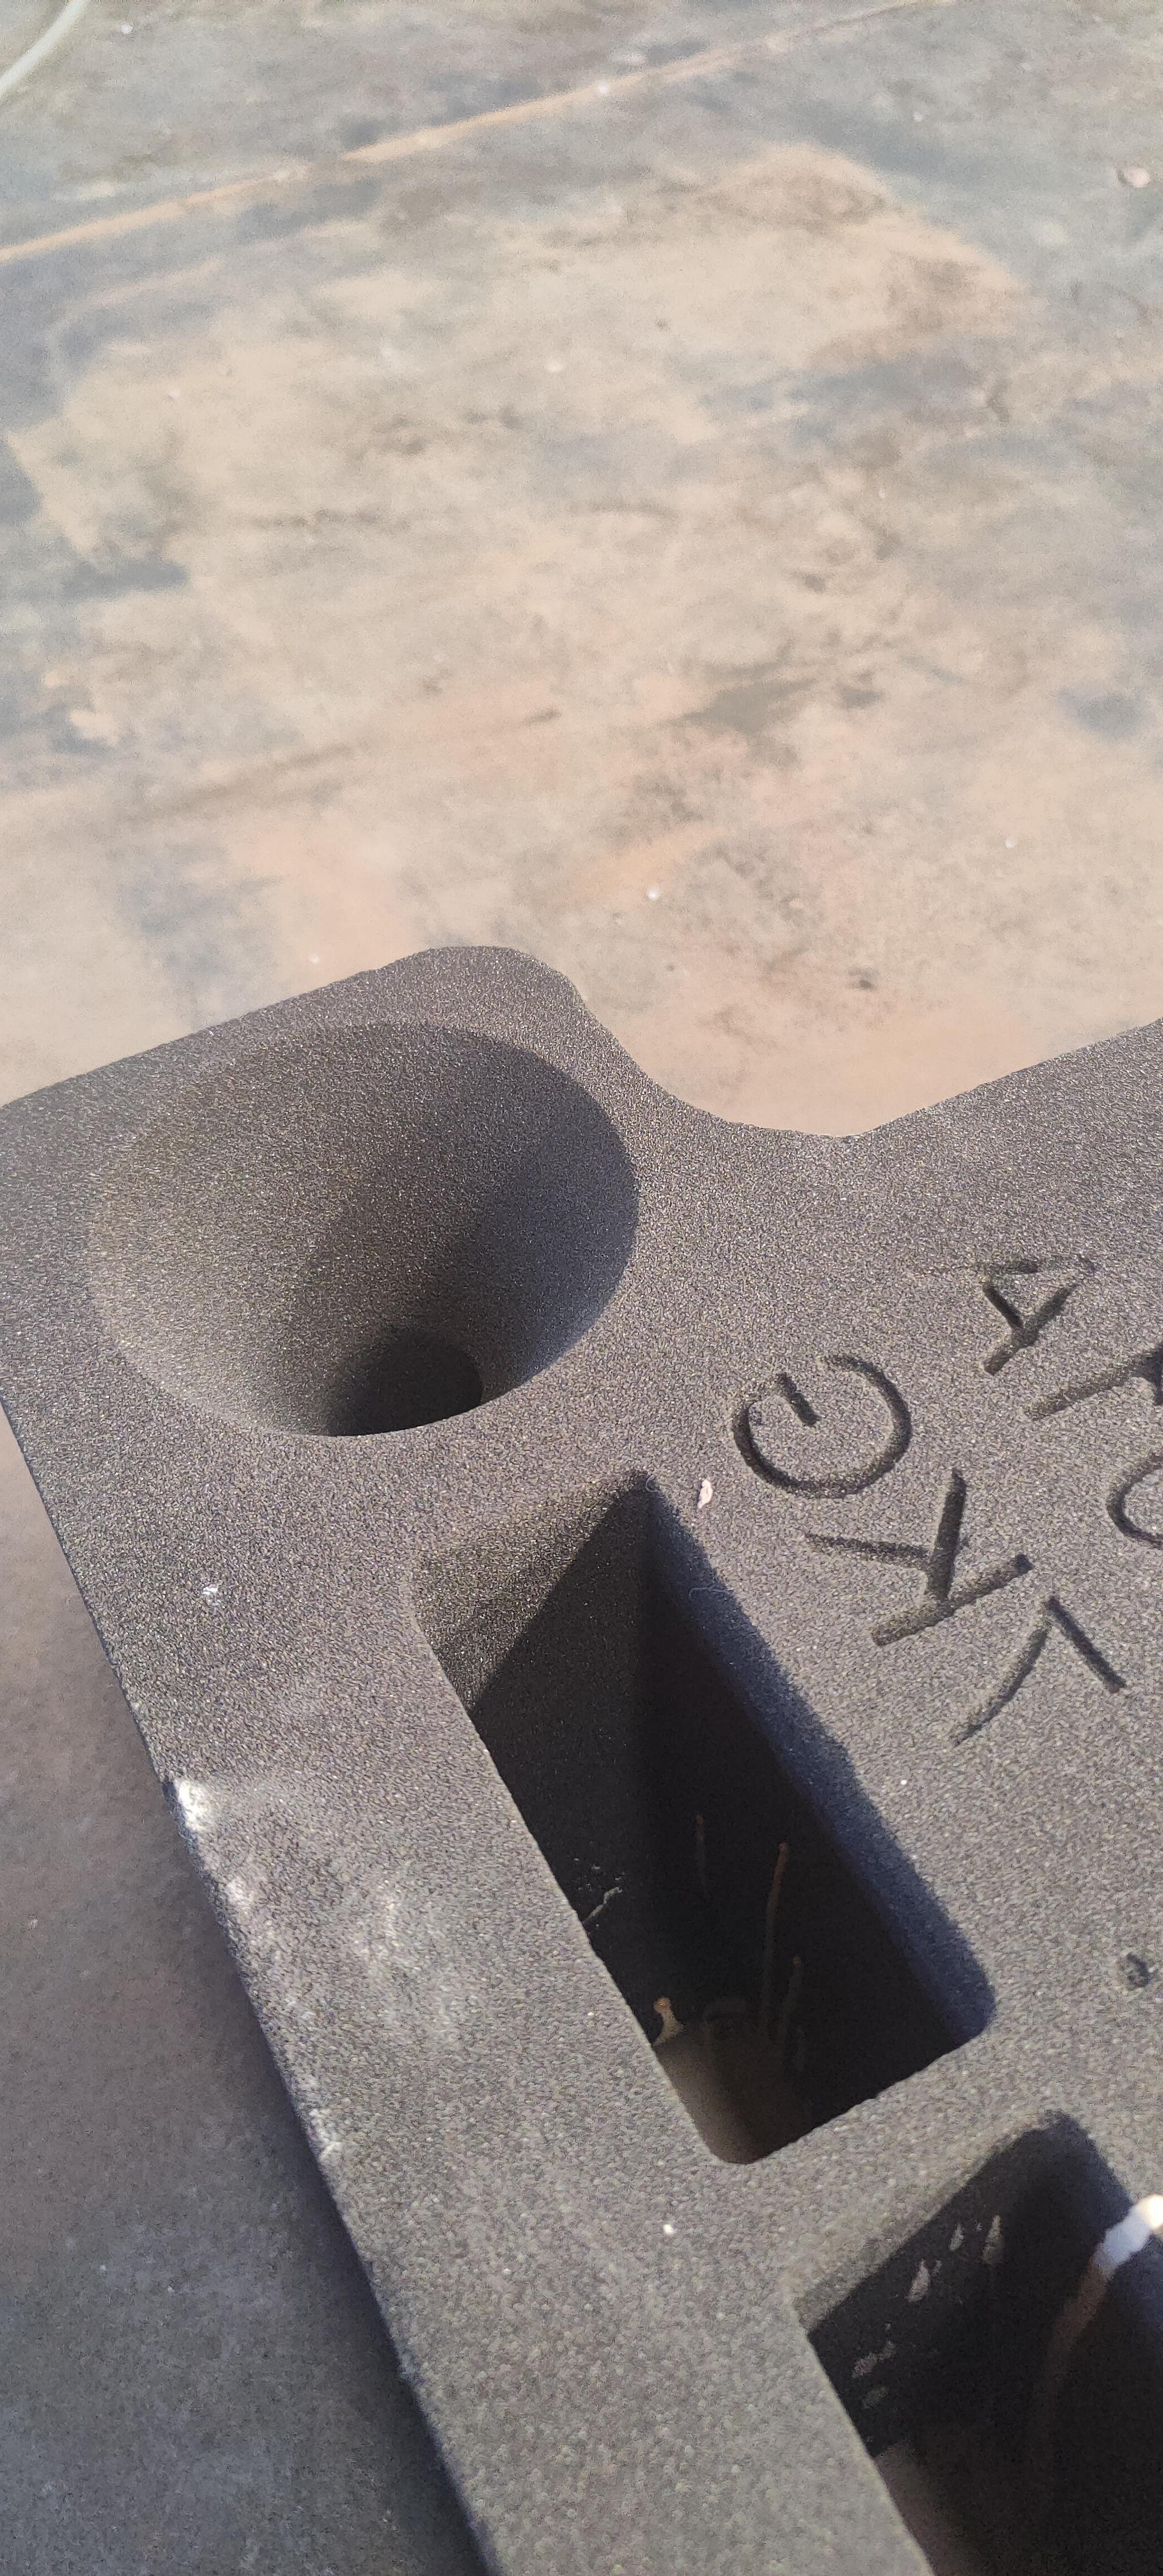pouring hole: (79, 1022, 642, 1444)
